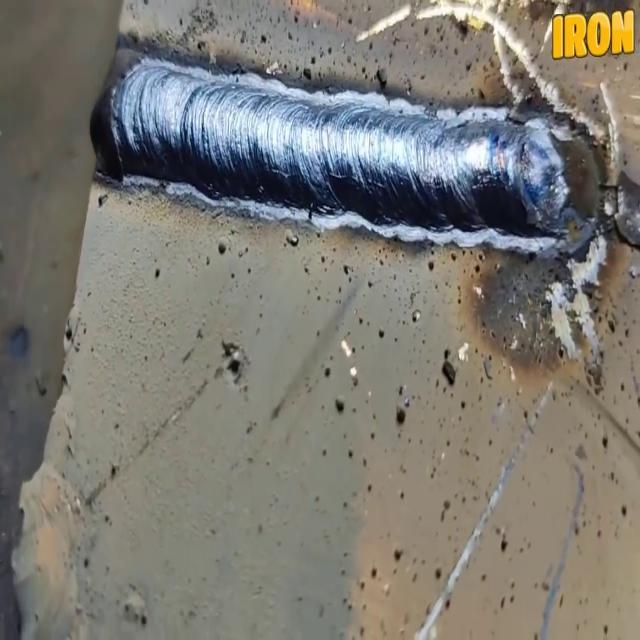Good Weld: (134, 57, 486, 227)
